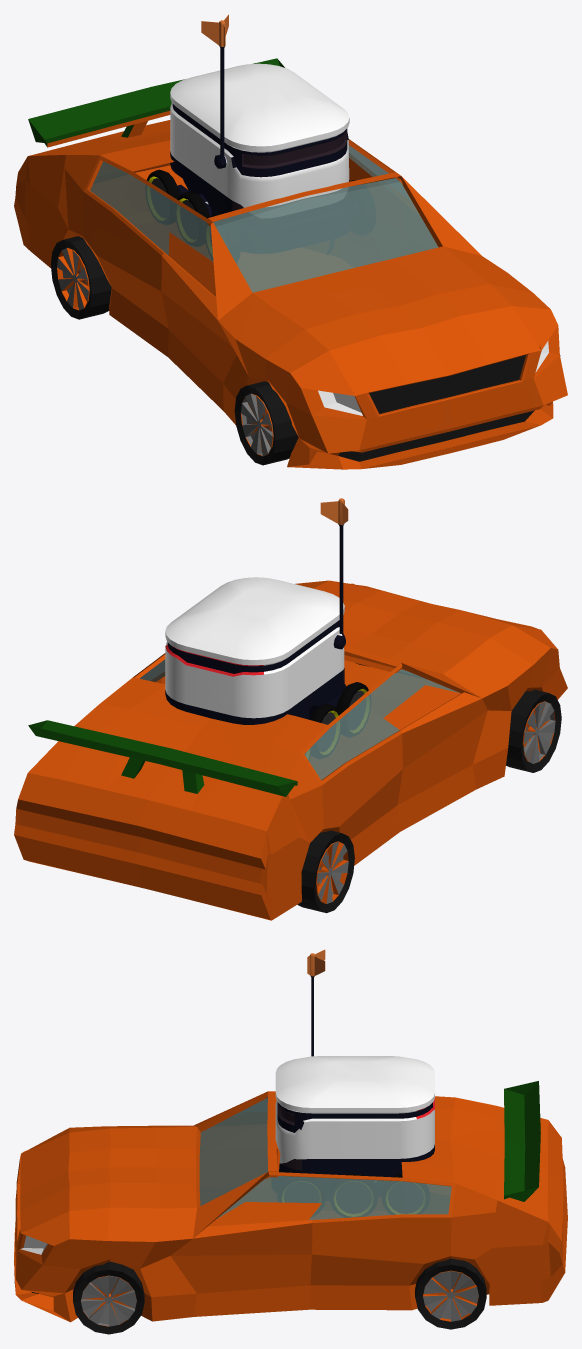
The model's file is tobor_with_car.fbx.
The picture shows the model from 3 angles, top to bottom: view 1: azimuth 30°, elevation 25°; view 2: azimuth 150°, elevation 25°; view 3: azimuth 270°, elevation 25°; orthographic projection. The views are drawn at different scales.
Visible parts, largest first — view 1: Cube, Starship_Model; view 2: Cube, Starship_Model; view 3: Cube, Starship_Model.
Boxes of the visible parts, x1,y1,x2,y2 form: Cube: (14,58,567,469); Starship_Model: (147,14,355,218); Cube: (14,580,567,920); Starship_Model: (165,498,368,724); Cube: (14,1081,567,1334); Starship_Model: (275,949,434,1177).
Size of the model in its own units: 227 by 254 by 435.
